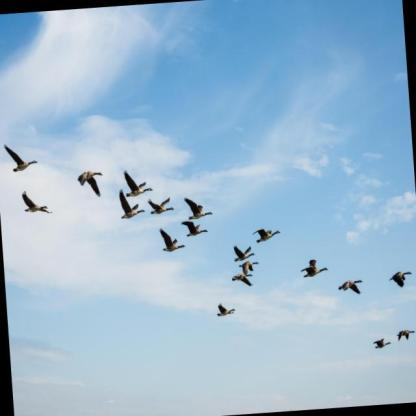bird: (1, 141, 40, 176), (20, 186, 55, 219), (75, 169, 108, 200), (122, 167, 155, 198), (117, 186, 147, 220), (183, 194, 214, 221), (158, 225, 186, 253), (146, 195, 175, 218), (299, 258, 330, 279), (180, 219, 209, 238), (251, 227, 281, 245), (388, 269, 414, 289), (338, 279, 366, 297), (232, 243, 256, 263), (231, 270, 255, 289), (238, 260, 261, 276), (215, 301, 237, 317), (372, 337, 392, 350), (396, 328, 416, 341)
